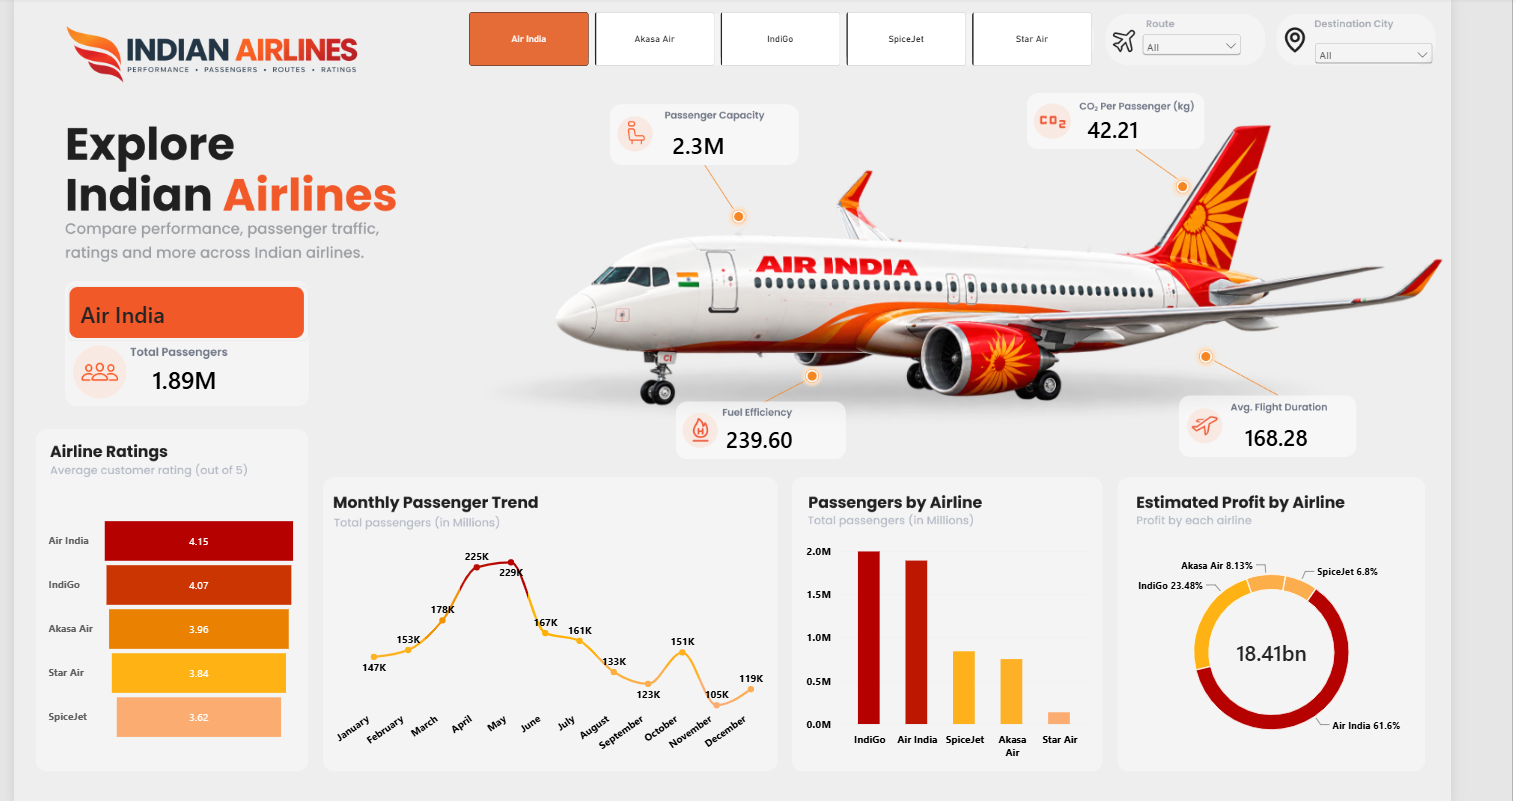

What the dashboard file says about the page in this screenshot:
{"tool":"powerbi","page":{"name":"Page 1","canvas":[1920,1080],"ordinal":0},"visuals":[{"type":"funnel","fields":{"Category":["Flight_Data.Airline"],"Y":["Avg(Flight_Data.Customer_Rating)"]},"box":[30.8,653.3,363.7,383.6],"z":0},{"type":"clusteredColumnChart","fields":{"Category":["Flight_Data.Airline"],"Y":["Sum(Flight_Data.Passengers)"]},"box":[1042.4,714.8,412.6,322.1],"z":1000},{"type":"lineChart","fields":{"Y":["Sum(Flight_Data.Passengers)"],"Category":["Flight_Data.Date.Variation.Date Hierarchy.Year","Flight_Data.Date.Variation.Date Hierarchy.Quarter","Flight_Data.Date.Variation.Date Hierarchy.Month"]},"box":[412.6,714.8,606.2,322.1],"z":2000},{"type":"donutChart","fields":{"Category":["Flight_Data.Airline"],"Y":["Sum(Flight_Data.Estimated_Profit_INR)"]},"box":[1476.7,714.8,407.2,322.1],"z":3000},{"type":"advancedSlicerVisual","fields":{"Values":["Aircraft_Images.Airline"]},"box":[608,19.9,832.4,72.4],"z":4000},{"type":"cardVisual","fields":{"Data":["Min(Flight_Data.Airline)"]},"box":[72.4,385.5,322.1,74.2],"z":5000},{"type":"image","box":[700.3,121.2,1219.7,477.8],"z":6000},{"type":"cardVisual","fields":{"Data":["Measures Table.Total Passengers"]},"box":[168.3,483.2,179.2,56.1],"z":7000},{"type":"cardVisual","fields":{"Data":["Aircraft_Images.Seat Capacity"]},"box":[863.2,171.9,179.2,50.7],"z":8000},{"type":"cardVisual","fields":{"Data":["Measures Table.CO2 Per Passenger"]},"box":[1417,155.6,159.3,41.6],"z":9000},{"type":"cardVisual","fields":{"Data":["Measures Table.Fuel Efficiency"]},"box":[935.6,564.6,168.3,50.7],"z":10000},{"type":"cardVisual","fields":{"Data":["Measures Table.Avg Flight Durations"]},"box":[1628.7,559.2,155.6,56.1],"z":11000},{"type":"slicer","fields":{"Values":["Flight_Data.Route"]},"box":[1502,45.2,141.2,47.1],"z":12000},{"type":"slicer","fields":{"Values":["Flight_Data.Destination_City"]},"box":[1733.7,56.1,166.5,79.6],"z":13000}]}

Visuals, with their boxes on the page's 1920x1080 design canvas (x1, y1, x2, y2). These are canvas units, not pixel positions in the 1516x801 screenshot, which may show the page scaled, cropped or inside an application window:
funnel - Flight_Data.Airline x Avg(Flight_Data.Customer_Rating): left=31, top=653, right=394, bottom=1037
clusteredColumnChart - Flight_Data.Airline x Sum(Flight_Data.Passengers): left=1042, top=715, right=1455, bottom=1037
lineChart - Sum(Flight_Data.Passengers) x Flight_Data.Date.Variation.Date Hierarchy.Year: left=413, top=715, right=1019, bottom=1037
donutChart - Flight_Data.Airline x Sum(Flight_Data.Estimated_Profit_INR): left=1477, top=715, right=1884, bottom=1037
advancedSlicerVisual - Aircraft_Images.Airline: left=608, top=20, right=1440, bottom=92
cardVisual - Min(Flight_Data.Airline): left=72, top=386, right=394, bottom=460
image: left=700, top=121, right=1920, bottom=599
cardVisual - Measures Table.Total Passengers: left=168, top=483, right=348, bottom=539
cardVisual - Aircraft_Images.Seat Capacity: left=863, top=172, right=1042, bottom=223
cardVisual - Measures Table.CO2 Per Passenger: left=1417, top=156, right=1576, bottom=197
cardVisual - Measures Table.Fuel Efficiency: left=936, top=565, right=1104, bottom=615
cardVisual - Measures Table.Avg Flight Durations: left=1629, top=559, right=1784, bottom=615
slicer - Flight_Data.Route: left=1502, top=45, right=1643, bottom=92
slicer - Flight_Data.Destination_City: left=1734, top=56, right=1900, bottom=136
